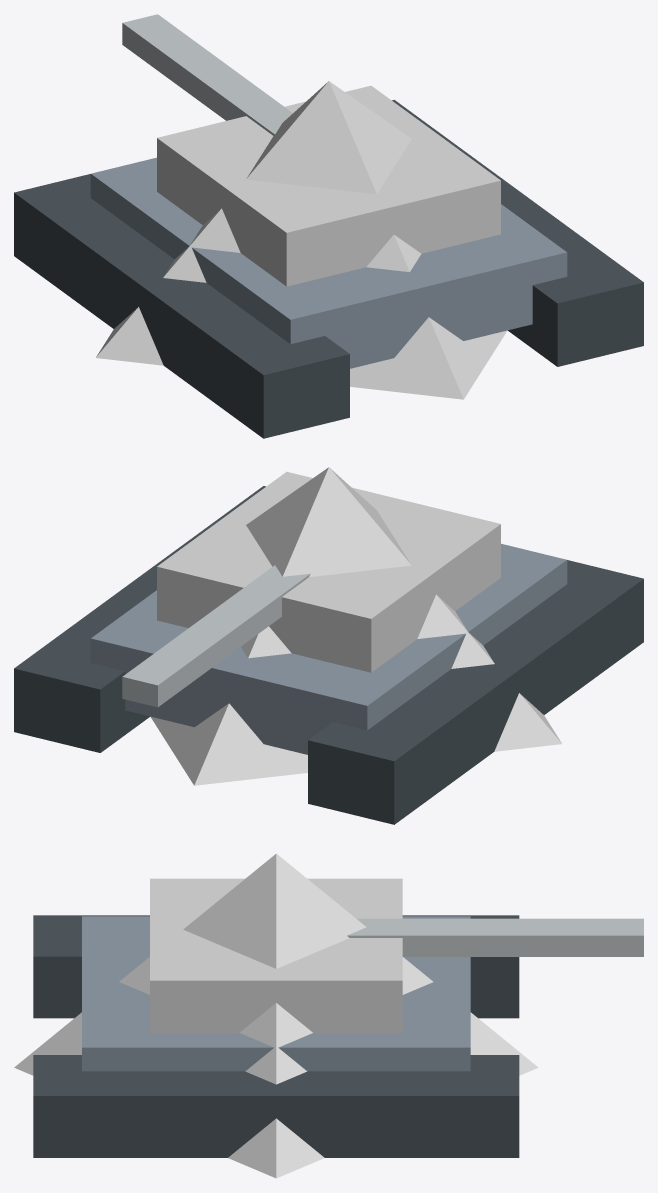
The model's file is siege.gltf.
The picture shows the model from 3 angles, top to bottom: view 1: azimuth 30°, elevation 25°; view 2: azimuth 150°, elevation 25°; view 3: azimuth 270°, elevation 25°; orthographic projection. The views are drawn at different scales.
Parts seen in each view (by area): view 1: close, distant; view 2: close, distant; view 3: close, distant.
Part boxes in pixels (x1,y1,x2,y2): close: [14, 14, 643, 438]; distant: [96, 81, 507, 399]; close: [14, 471, 643, 824]; distant: [150, 467, 561, 785]; close: [33, 878, 643, 1157]; distant: [14, 853, 538, 1178].
Bounding box in the file's own units: 9.99 × 4.5 × 11.99.
